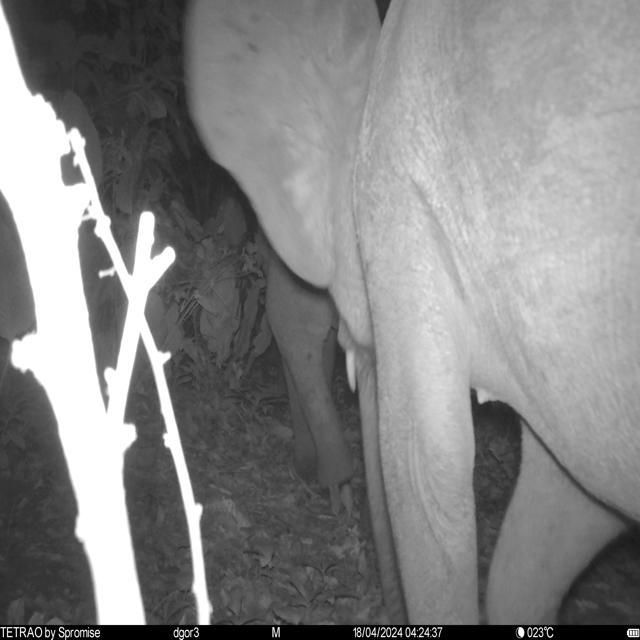ear: (185, 0, 382, 292)
elephant: (186, 0, 638, 625), (266, 249, 361, 496)
tusk: (344, 348, 358, 392)
